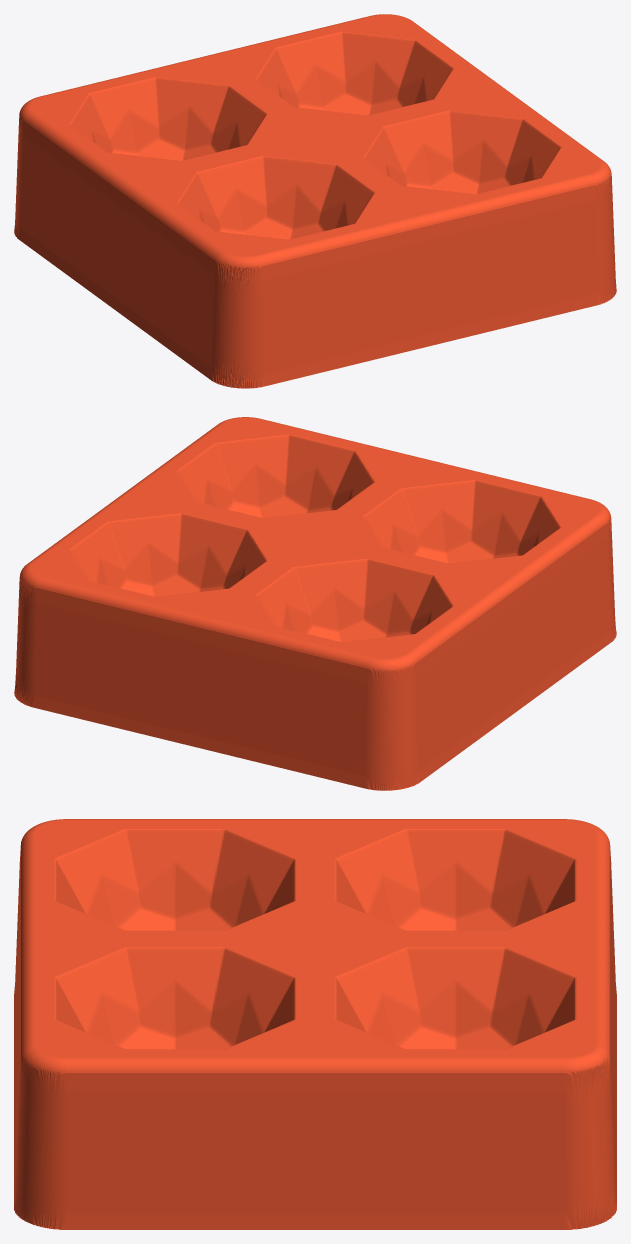
The model's file is mold.glb.
The picture shows the model from 3 angles, top to bottom: view 1: azimuth 30°, elevation 25°; view 2: azimuth 150°, elevation 25°; view 3: azimuth 270°, elevation 25°; orthographic projection. The views are drawn at different scales.
Parts seen in each view (by area): view 1: geometry_0; view 2: geometry_0; view 3: geometry_0.
Part boxes in pixels (box(x1,y1,x2,y2)): geometry_0: box(14, 14, 616, 388); geometry_0: box(14, 417, 616, 790); geometry_0: box(14, 819, 616, 1229).
Bounding box in the file's own units: 0.1036 × 0.031 × 0.1036.
